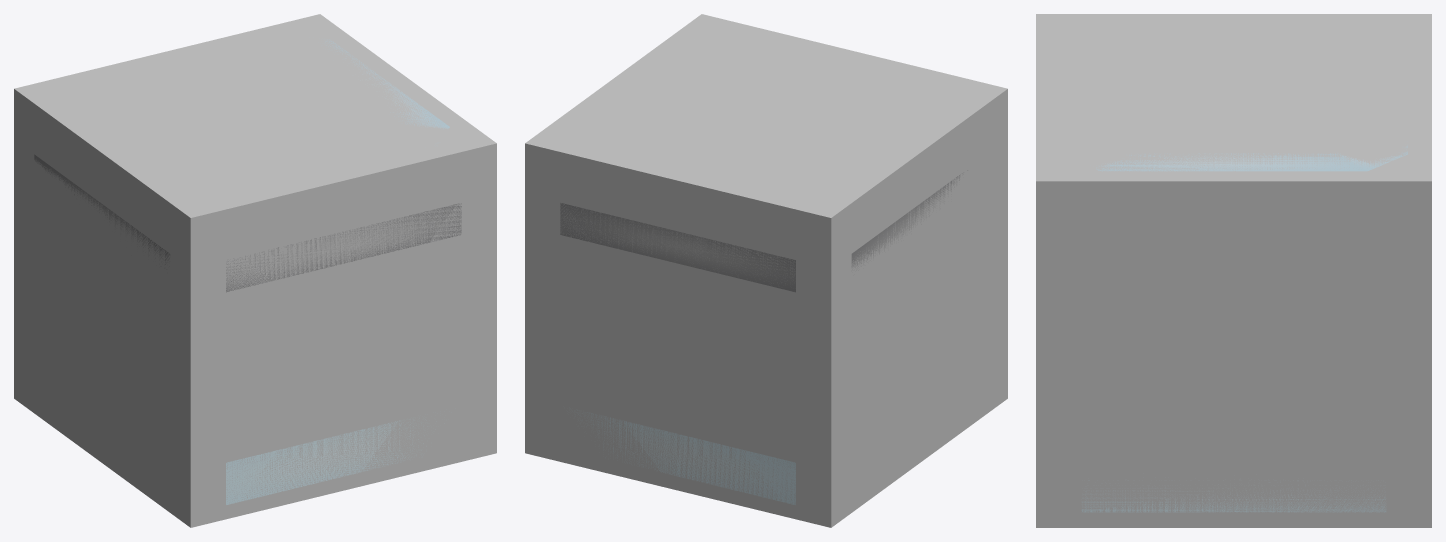
The model's file is SM_Crate_02.fbx.
The picture shows the model from 3 angles, left to right: view 1: azimuth 30°, elevation 25°; view 2: azimuth 150°, elevation 25°; view 3: azimuth 270°, elevation 25°; orthographic projection. The views are drawn at different scales.
Visible parts, largest first — view 1: SM_Crate_02_ConvexHulls, SM_Crate_02; view 2: SM_Crate_02_ConvexHulls, SM_Crate_02; view 3: SM_Crate_02_ConvexHulls, SM_Crate_02.
Boxes of the visible parts, left/top/right/bottom form: SM_Crate_02_ConvexHulls: left=14, top=14, right=496, bottom=527; SM_Crate_02: left=34, top=39, right=461, bottom=504; SM_Crate_02_ConvexHulls: left=525, top=14, right=1007, bottom=527; SM_Crate_02: left=560, top=170, right=967, bottom=504; SM_Crate_02_ConvexHulls: left=1036, top=14, right=1431, bottom=527; SM_Crate_02: left=1081, top=145, right=1407, bottom=512.
Bounding box in the file's own units: 115 × 115 × 111.
